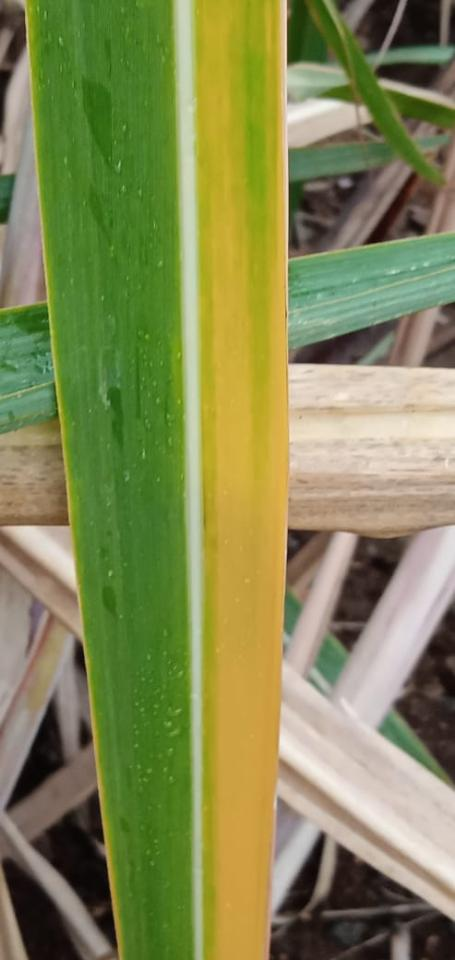Yellow: (196, 0, 290, 959)
